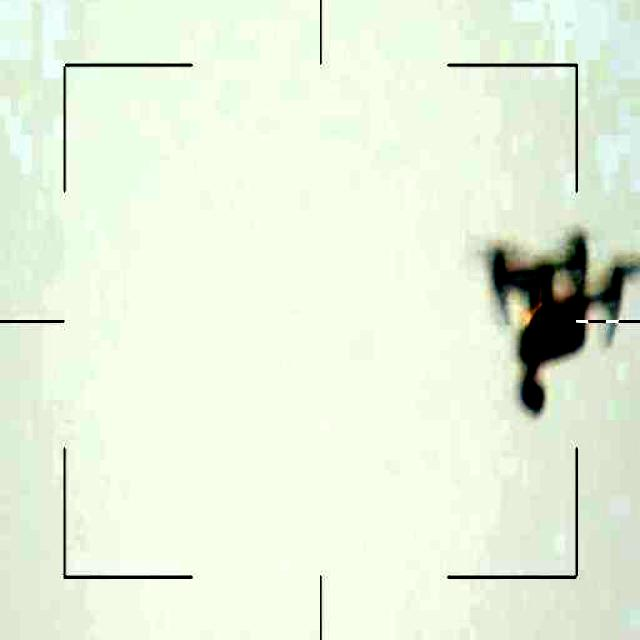bird: (461, 220, 640, 414)
